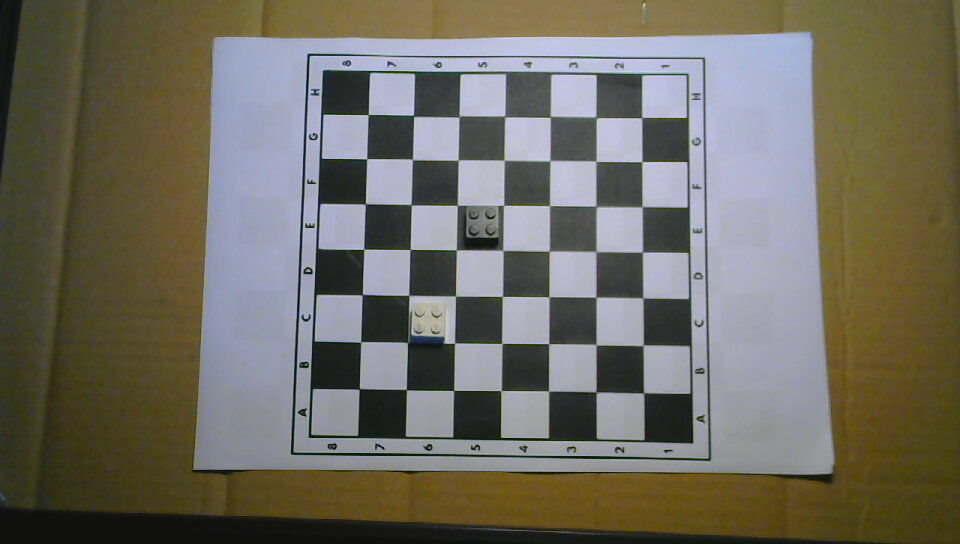bp: (464, 203, 501, 247)
wp: (410, 300, 447, 344)
